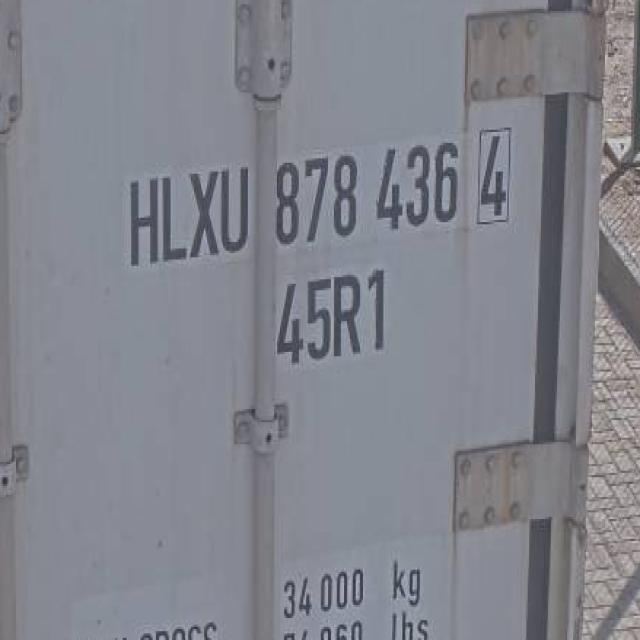dv: (474, 121, 514, 234)
owner: (123, 160, 256, 272)
serial: (273, 134, 462, 251)
size: (276, 263, 393, 372)
